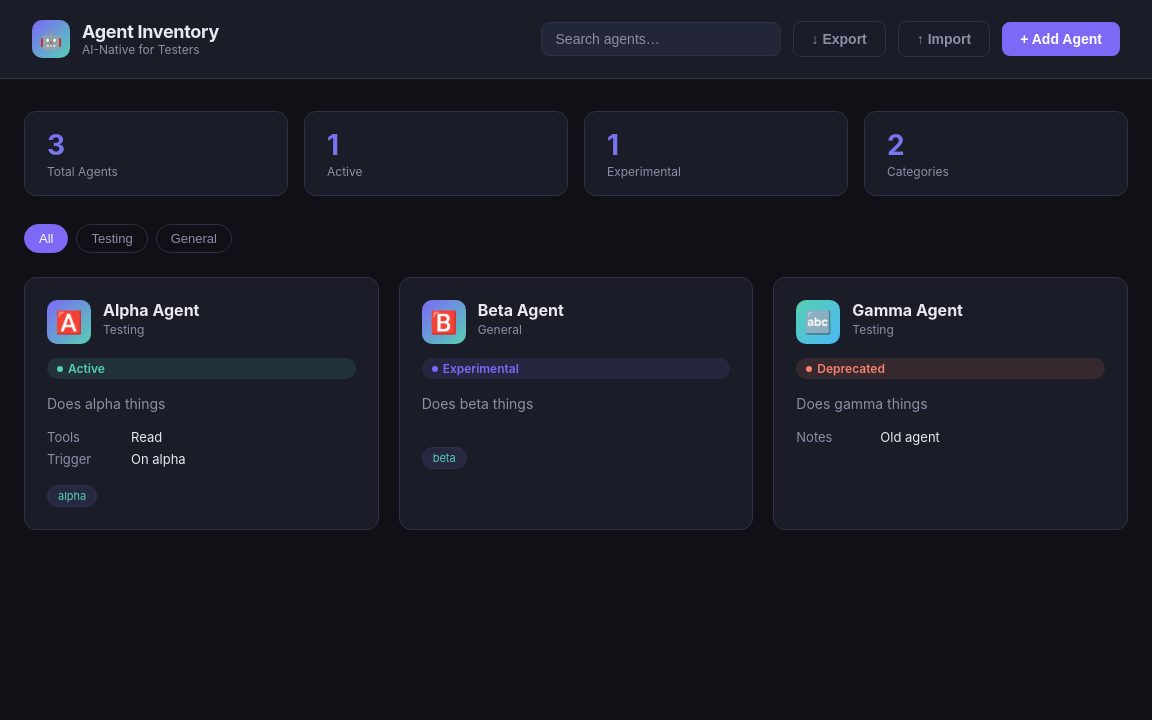
Test: Adding an agent › modal title is "Add Agent"
Step 1. Click the button "+ Add Agent" → click(1061, 39), box x1=1002 y1=22 x2=1120 y2=56
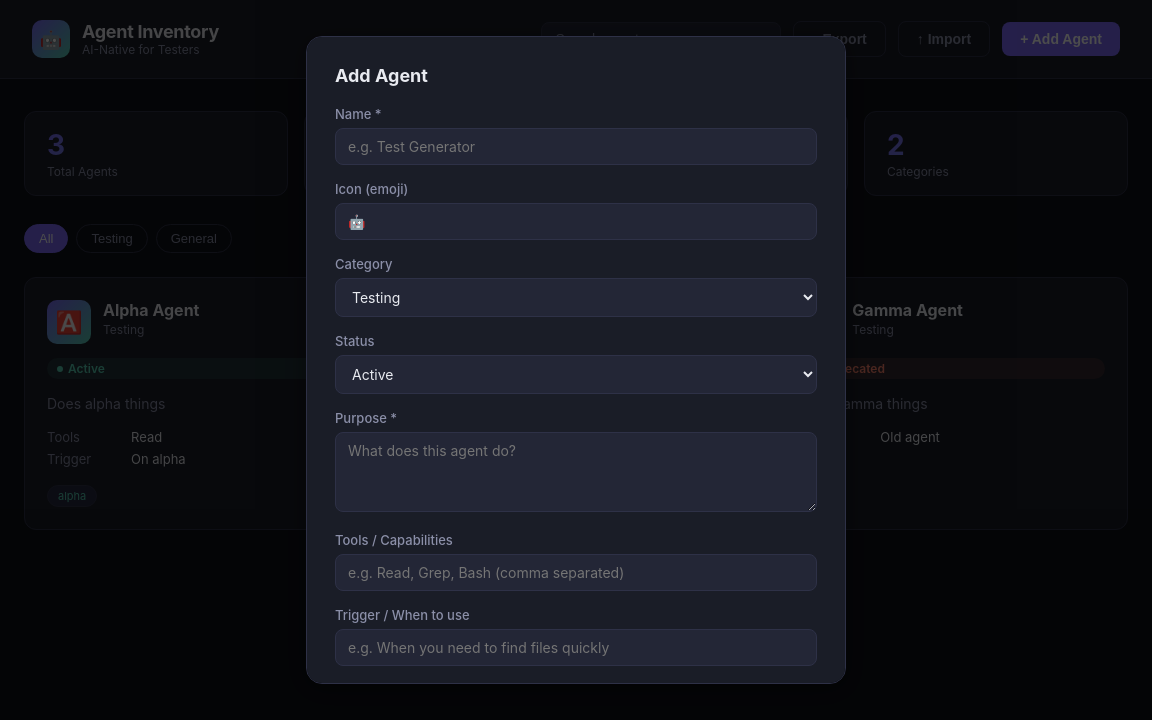
Expected: the heading "Add Agent" is shown, x1=335 y1=65 x2=428 y2=86
